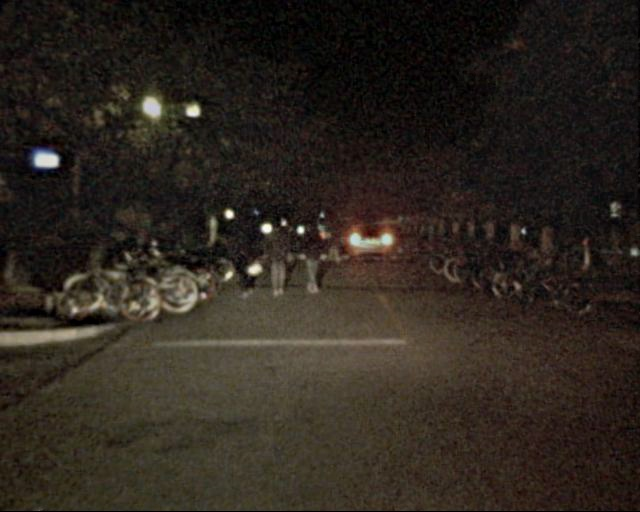person: (231, 216, 261, 301), (296, 220, 327, 296), (264, 221, 292, 299), (326, 222, 345, 269)
